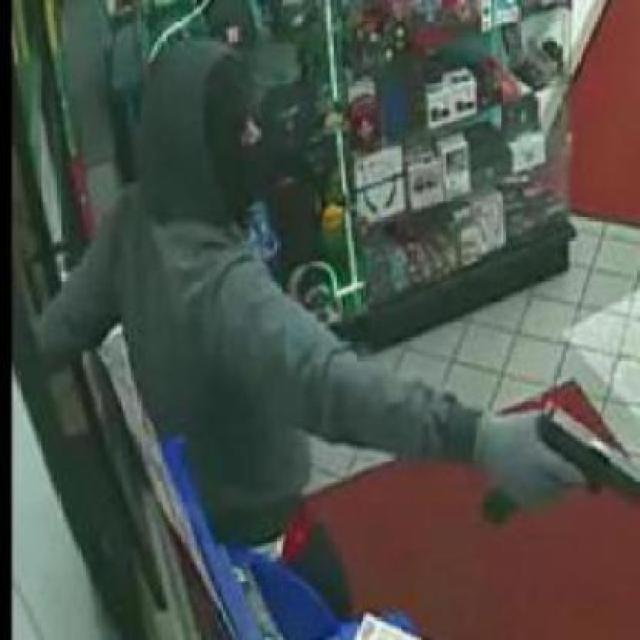gun: (470, 392, 638, 528)
